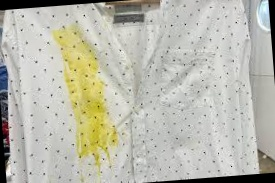mustard: (57, 24, 121, 181)
